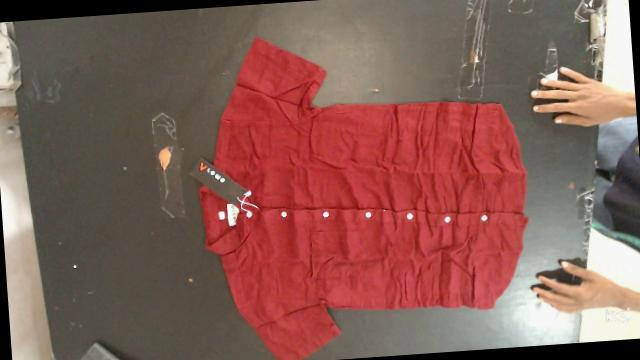new-garment: (194, 37, 527, 360)
